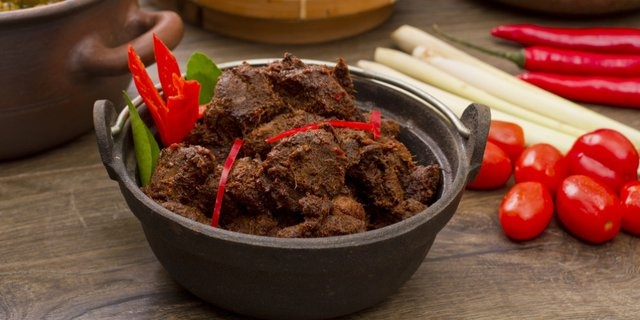rendang: (146, 54, 445, 239)
